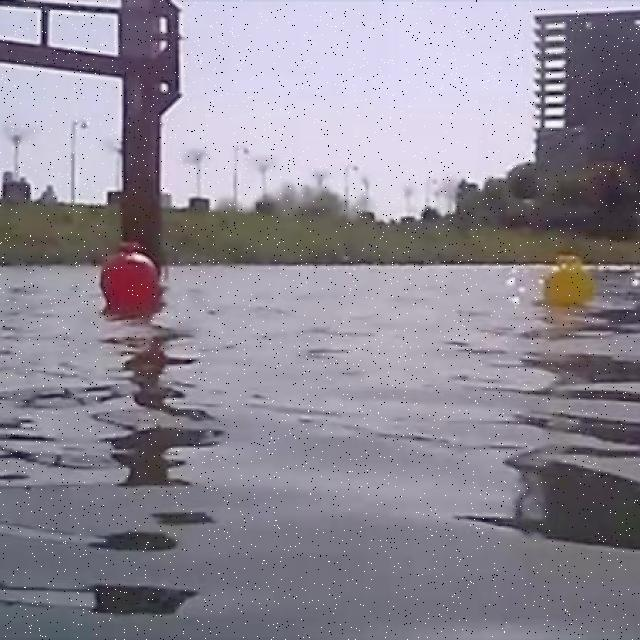buoy: (98, 244, 161, 312), (544, 252, 595, 308)
